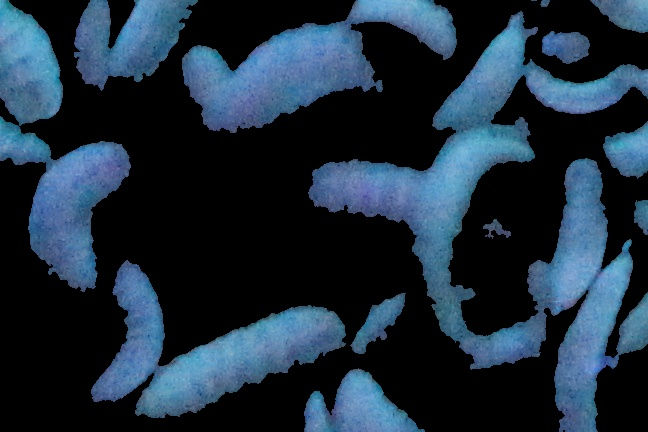larvae: (137, 307, 344, 418), (212, 32, 419, 143), (426, 136, 537, 339), (23, 144, 130, 287), (544, 246, 633, 414), (72, 264, 154, 393), (543, 155, 608, 312), (445, 16, 528, 133), (304, 154, 439, 223), (104, 1, 212, 75), (1, 1, 69, 103), (521, 62, 635, 122), (345, 1, 465, 58), (171, 39, 234, 96)
